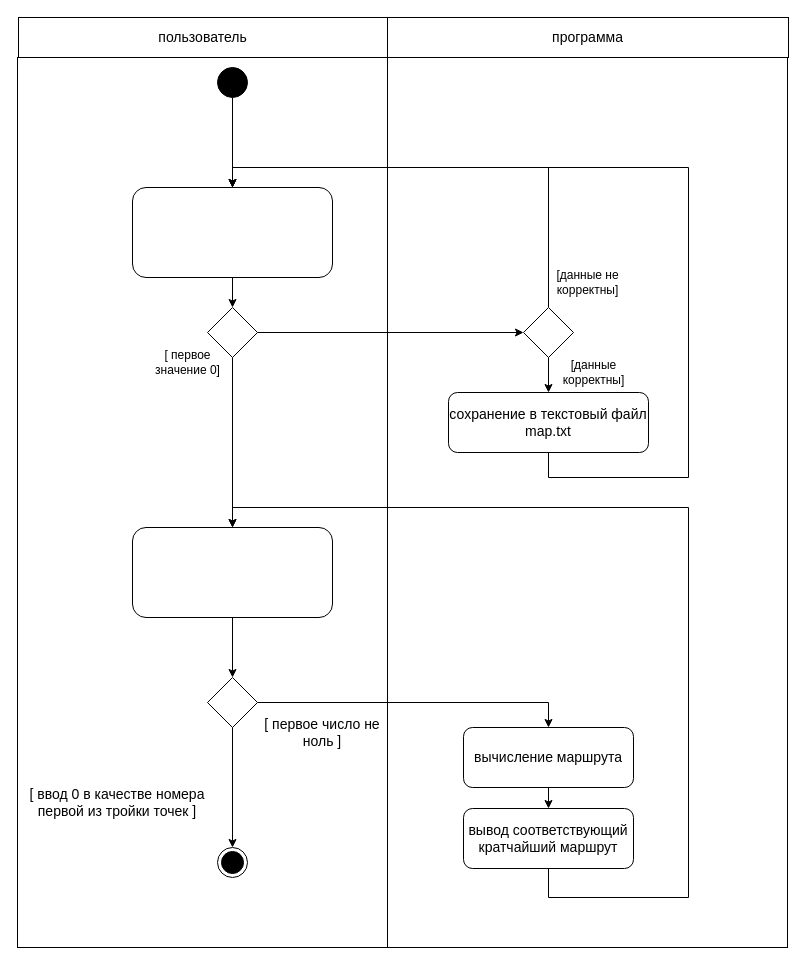
The diagram is 806 pixels wide and 965 high, and some of its shapes have lost their labels. The shapes that lost their labels are listed below. From the top down, each one's centre as x and y in pixels, then its label:
the point at 232,232: ввод целочисленных номеров точек и расстояний между парами связанных точек
the point at 232,572: запрашивает номера трёх точек в том порядке, в котором их требуется посетить
